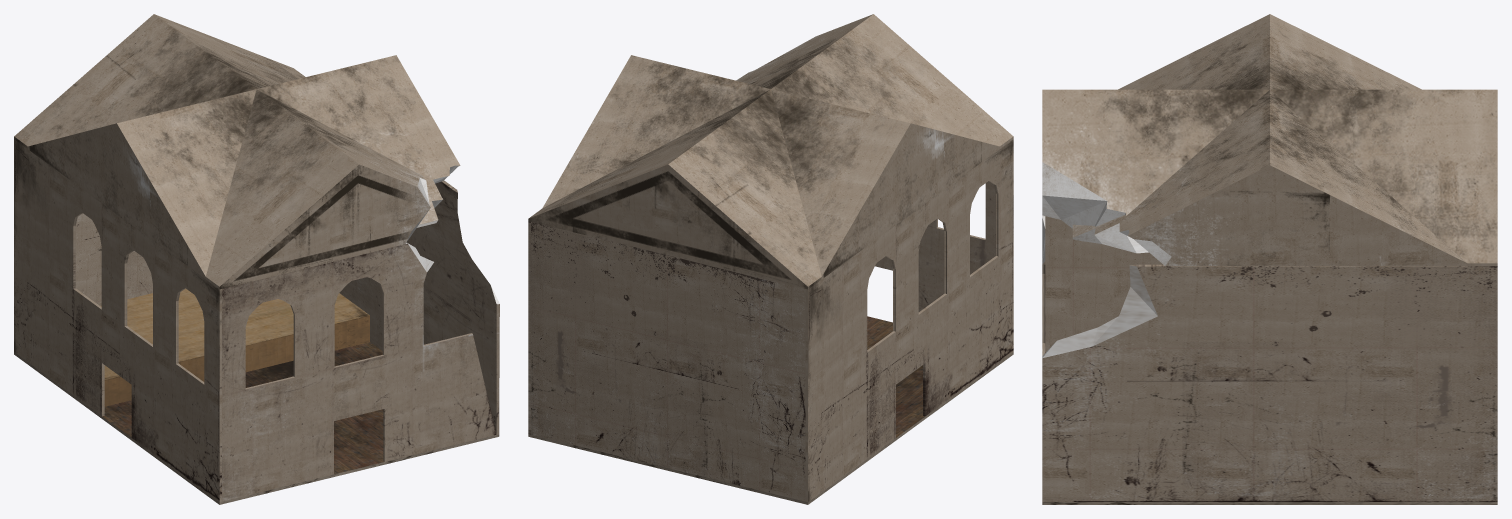
3 renders of one model, left to right at view 1: azimuth 30°, elevation 25°; view 2: azimuth 150°, elevation 25°; view 3: azimuth 270°, elevation 25°, orthographic. The views are drawn at different scales.
Parts seen in each view (by area): view 1: 천장, 뒤쪽벽, 왼쪽벽, 천장.001, 오른쪽벽, 무대, 바닥, 앞쪽벽; view 2: 앞쪽벽, 천장, 왼쪽벽, 천장.001, 바닥, 뒤쪽벽, 오른쪽벽; view 3: 오른쪽벽, 천장.001, 천장, 왼쪽벽, 바닥, 뒤쪽벽.
Boxes of the visible parts, <box> form: 천장: <box>14,14,430,289</box>; 뒤쪽벽: <box>222,242,496,501</box>; 왼쪽벽: <box>14,139,221,502</box>; 천장.001: <box>28,55,460,278</box>; 오른쪽벽: <box>339,180,499,434</box>; 무대: <box>100,288,369,406</box>; 바닥: <box>14,342,499,504</box>; 앞쪽벽: <box>75,213,152,305</box>; 앞쪽벽: <box>531,222,805,501</box>; 천장: <box>528,14,1013,289</box>; 왼쪽벽: <box>805,139,1013,502</box>; 천장.001: <box>542,55,999,278</box>; 바닥: <box>528,316,1013,504</box>; 뒤쪽벽: <box>875,181,995,311</box>; 오른쪽벽: <box>528,221,530,434</box>; 오른쪽벽: <box>1042,264,1497,501</box>; 천장.001: <box>1072,14,1467,265</box>; 천장: <box>1042,89,1497,265</box>; 왼쪽벽: <box>1045,216,1162,351</box>; 바닥: <box>1042,352,1497,504</box>; 뒤쪽벽: <box>1042,215,1045,355</box>.
Size of the model in its own units: 1103 by 1152 by 1400.
